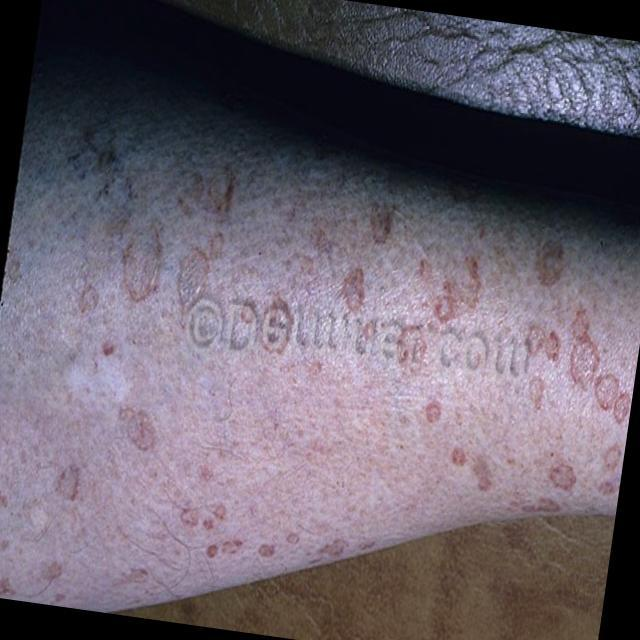Eczema: (35, 134, 629, 553)
